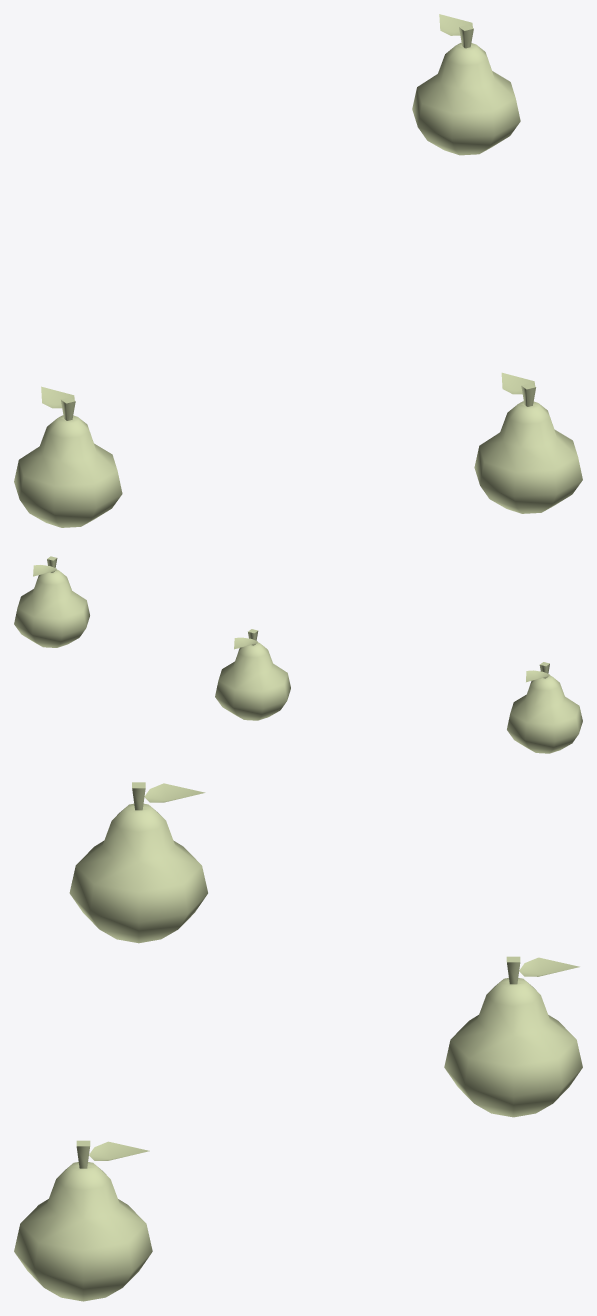
Rendered from crafted-pear-fruits-full.glb.
3 renders of one model, top to bottom at view 1: azimuth 30°, elevation 25°; view 2: azimuth 150°, elevation 25°; view 3: azimuth 270°, elevation 25°, orthographic. The views are drawn at different scales.
Visible parts, largest first — view 1: fruit-0, fruit-1, fruit-2; view 2: fruit-1, fruit-0, fruit-2; view 3: fruit-0, fruit-1, fruit-2.
Part boxes in pixels (x1,y1,x2,y2): fruit-0: [14, 386, 122, 527]; fruit-1: [474, 372, 582, 513]; fruit-2: [412, 14, 520, 155]; fruit-1: [215, 629, 290, 720]; fruit-0: [507, 662, 582, 753]; fruit-2: [14, 556, 89, 647]; fruit-0: [69, 782, 207, 943]; fruit-1: [14, 1140, 152, 1301]; fruit-2: [444, 956, 582, 1117].
Bounding box in the file's own units: 1.33 × 0.63 × 0.82.
